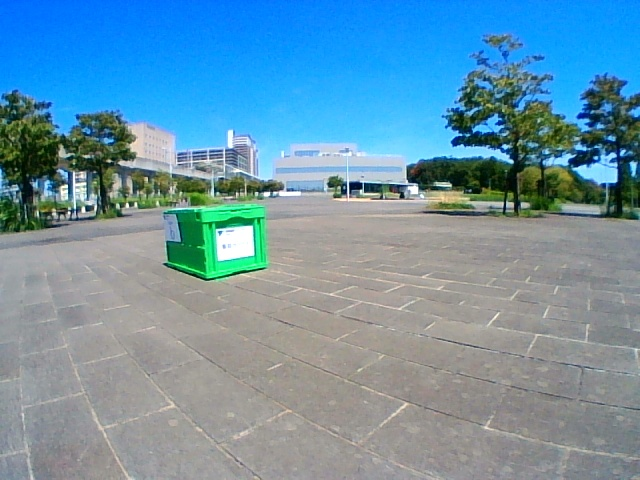green_box: (163, 205, 266, 280)
tag_b: (165, 215, 177, 241)
